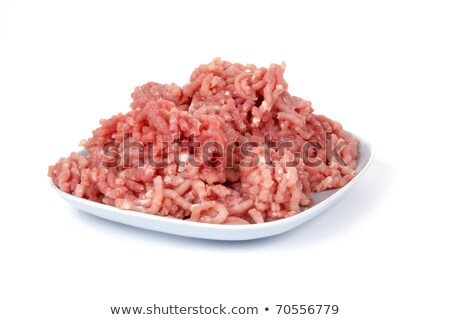ground_beef: (51, 60, 362, 223)
